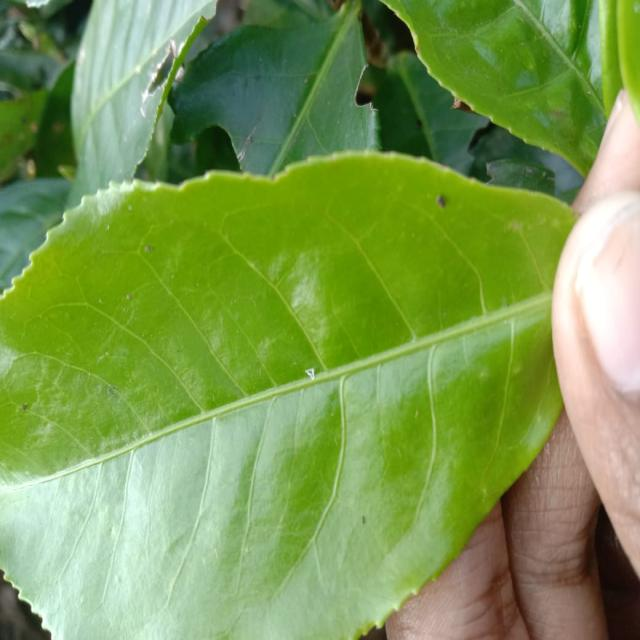Category B(2-4 days): (0, 158, 533, 597)
